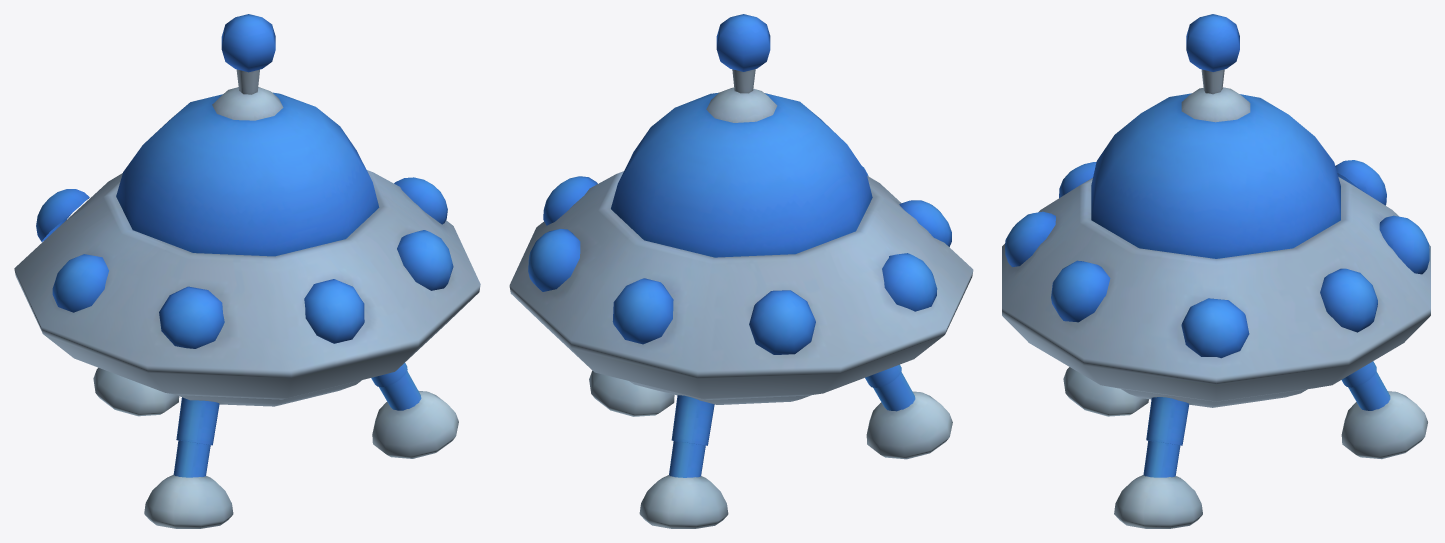
Rendered from 0-ufo_blue.fbx.
3 renders of one model, left to right at view 1: azimuth 30°, elevation 25°; view 2: azimuth 150°, elevation 25°; view 3: azimuth 270°, elevation 25°, orthographic.
Parts seen in each view (by area): view 1: 0-ufo_blue; view 2: 0-ufo_blue; view 3: 0-ufo_blue.
Part boxes in pixels (<box>): 0-ufo_blue: <box>14,14,480,528</box>; 0-ufo_blue: <box>509,14,973,528</box>; 0-ufo_blue: <box>1002,14,1430,528</box>.
Size of the model in its own units: 95.13 by 97.58 by 85.88.
